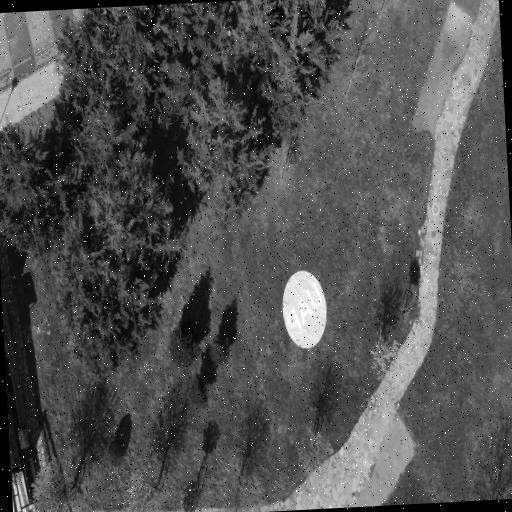car: (283, 271, 327, 348)
